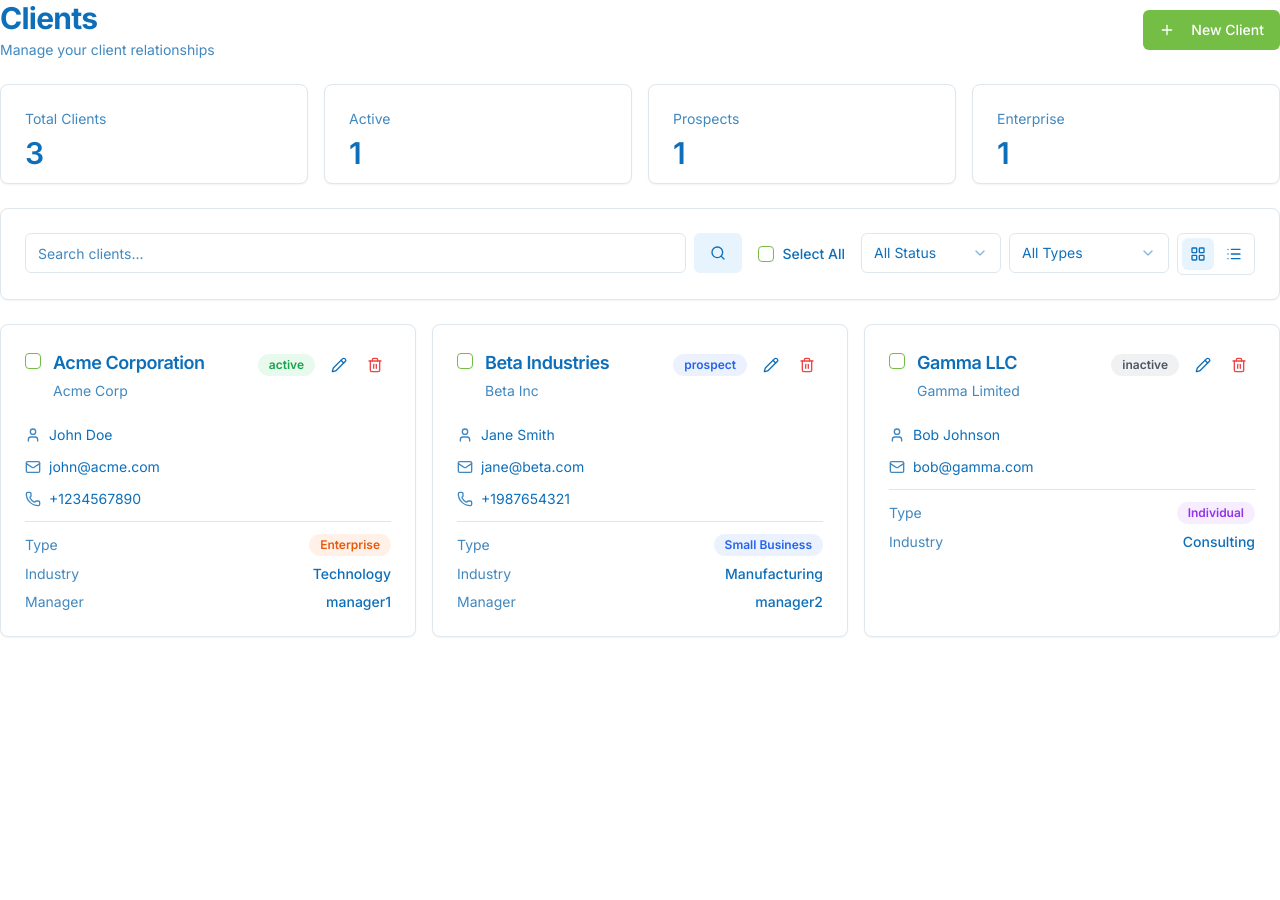
it: ClientsPage › Bulk Operations › shows bulk delete dialog when multiple clients selected
The width and height of the screenshot is (1280, 900).
Expected: the text "Acme Corporation" is shown, [53,352,205,373]
Click the checkbox named "Select All" next to "Select All".
click(766, 254)  # box [758,246,774,262]
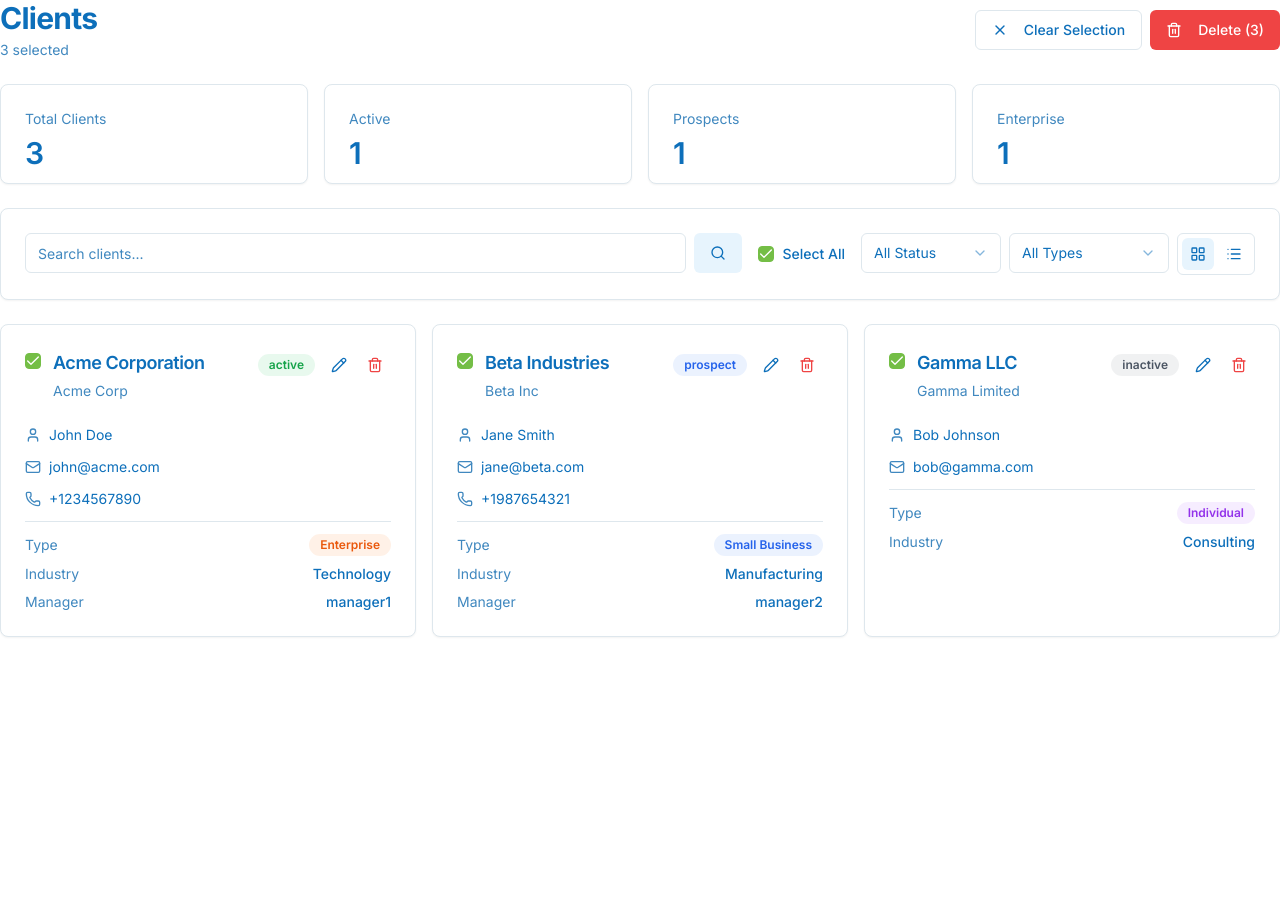
Click the button "Delete (3)".
click(1215, 30)  # box [1150,10,1279,50]
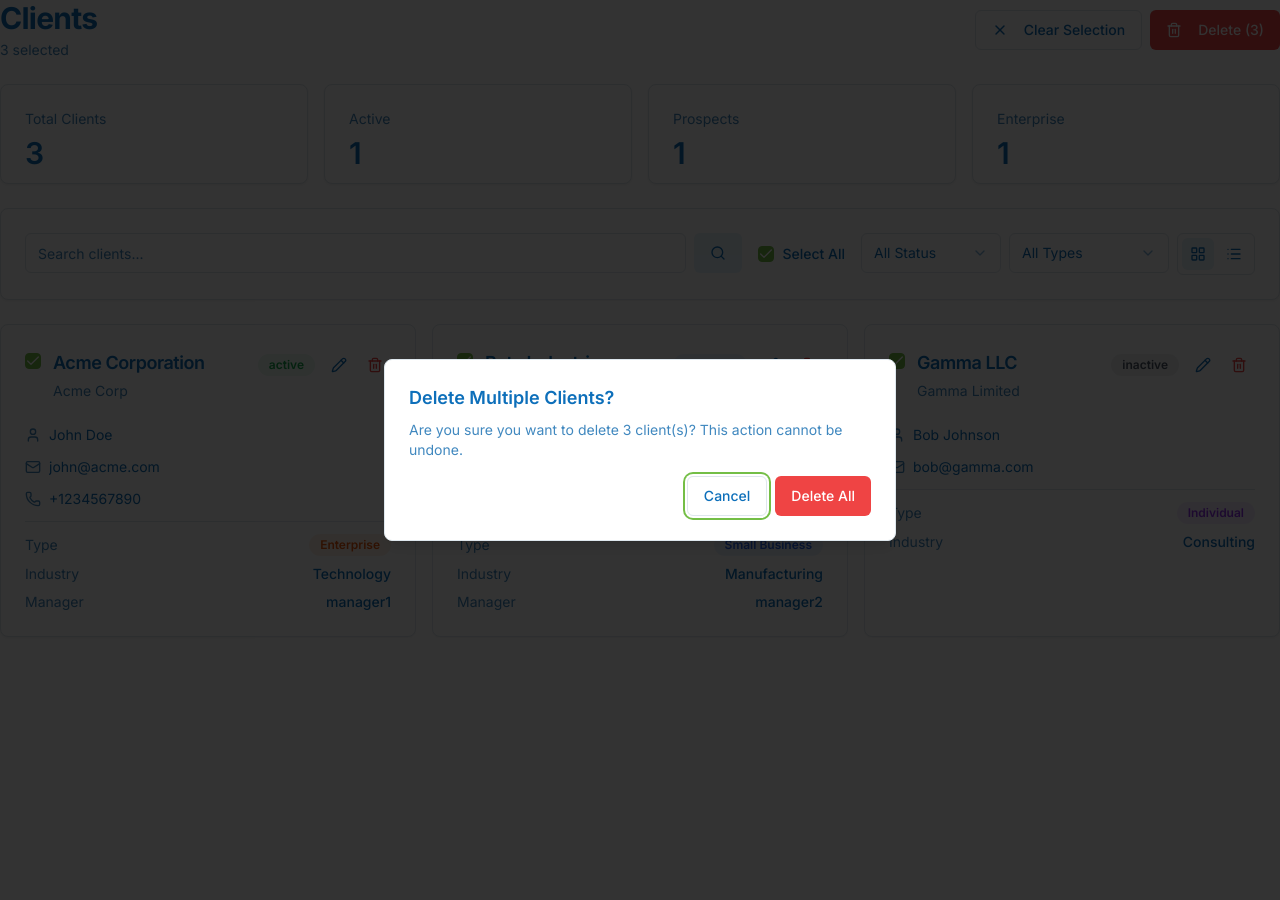
Expected: the heading "Delete Multiple Clients?" is shown, [409,387,614,408]
